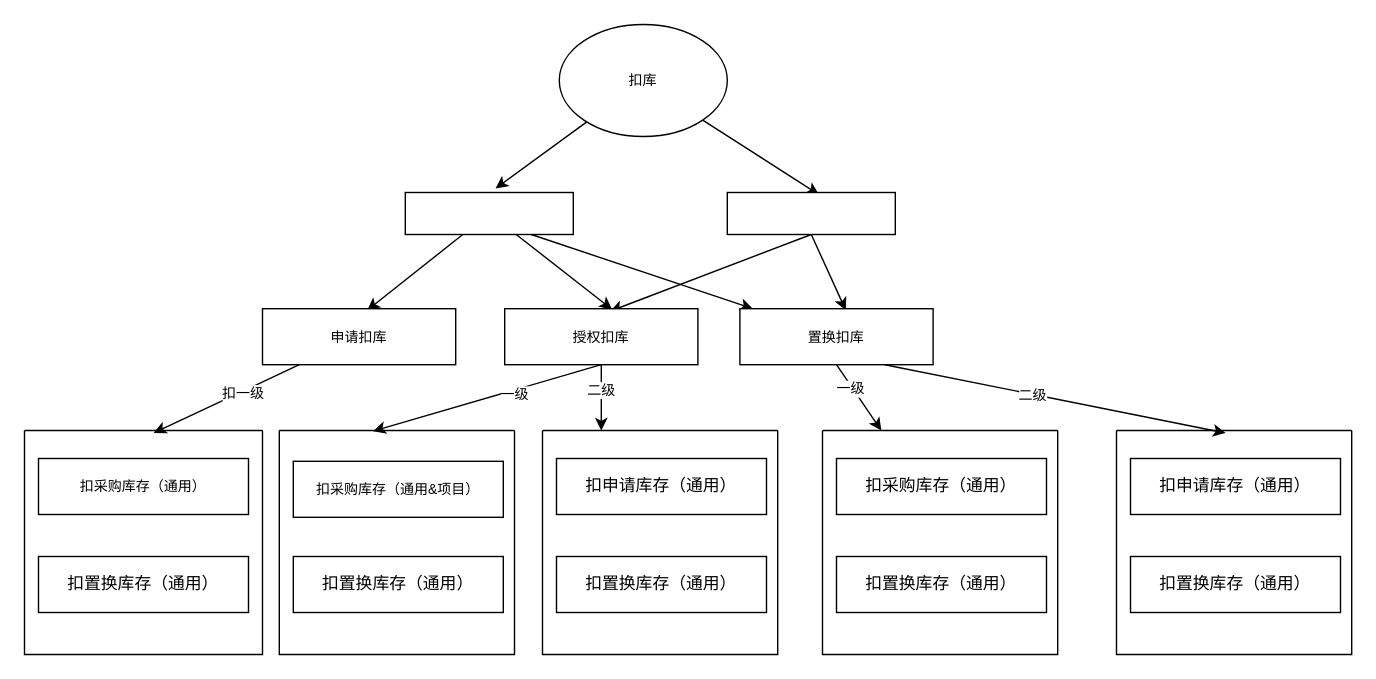
This 1376x679 diagram has some shape labels left out. The centre of each missing label's shape, as x and y in pixels:
"一级代理商" goes at (x=488, y=212).
"二级代理商" goes at (x=810, y=212).
